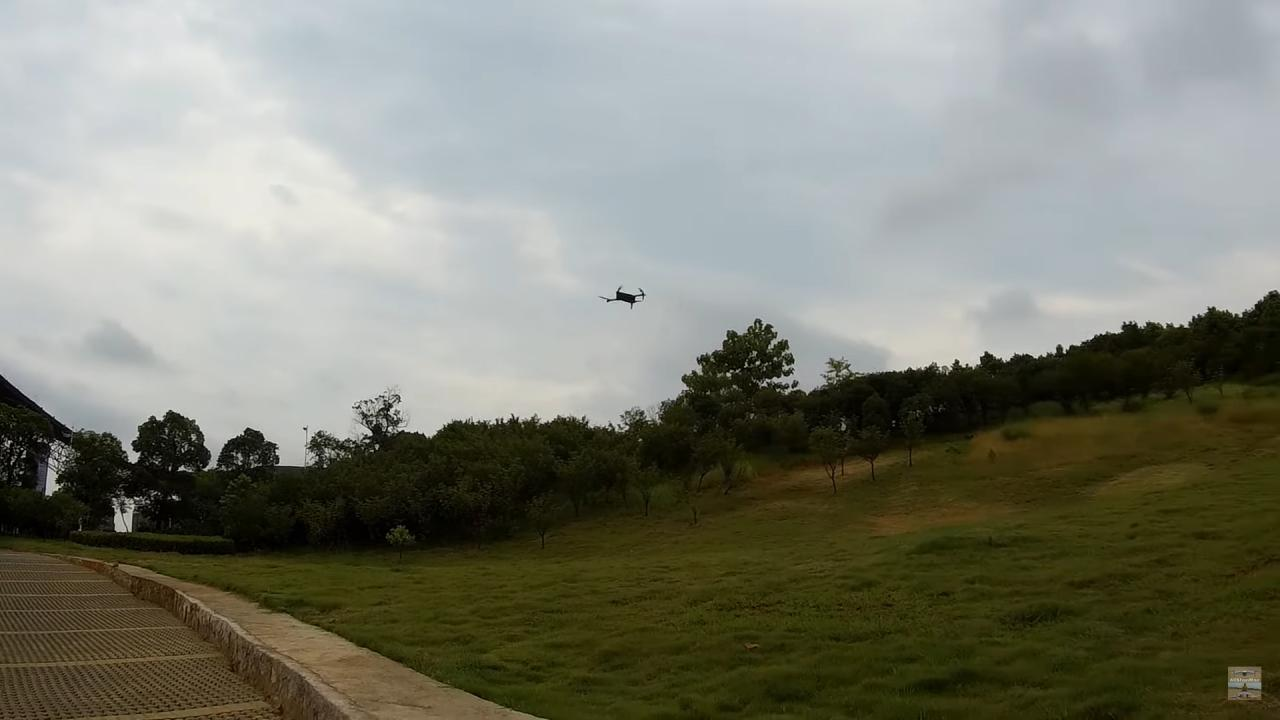Drone: (593, 276, 656, 319)
